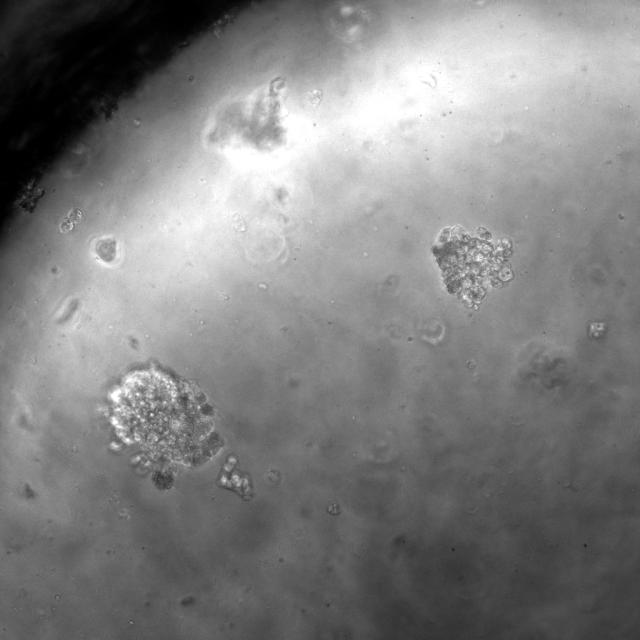organoid: (102, 360, 223, 490), (432, 226, 512, 309), (217, 454, 252, 500), (60, 207, 82, 232), (96, 237, 117, 262), (587, 321, 607, 339)
